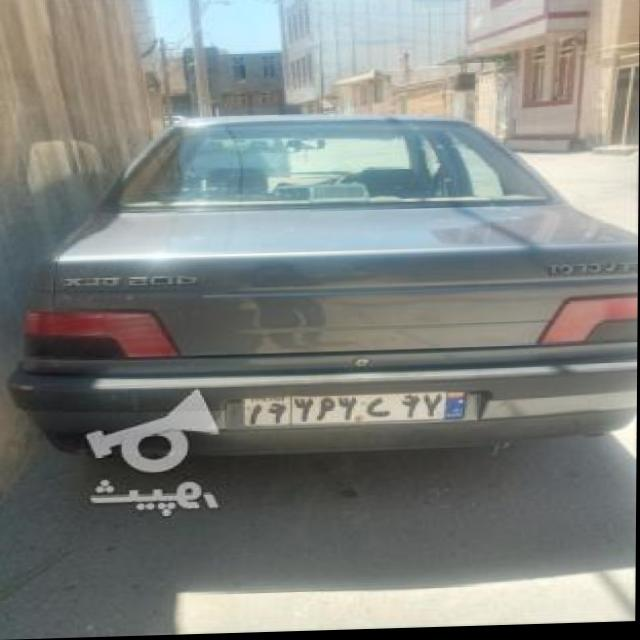licence: (242, 388, 469, 433)
